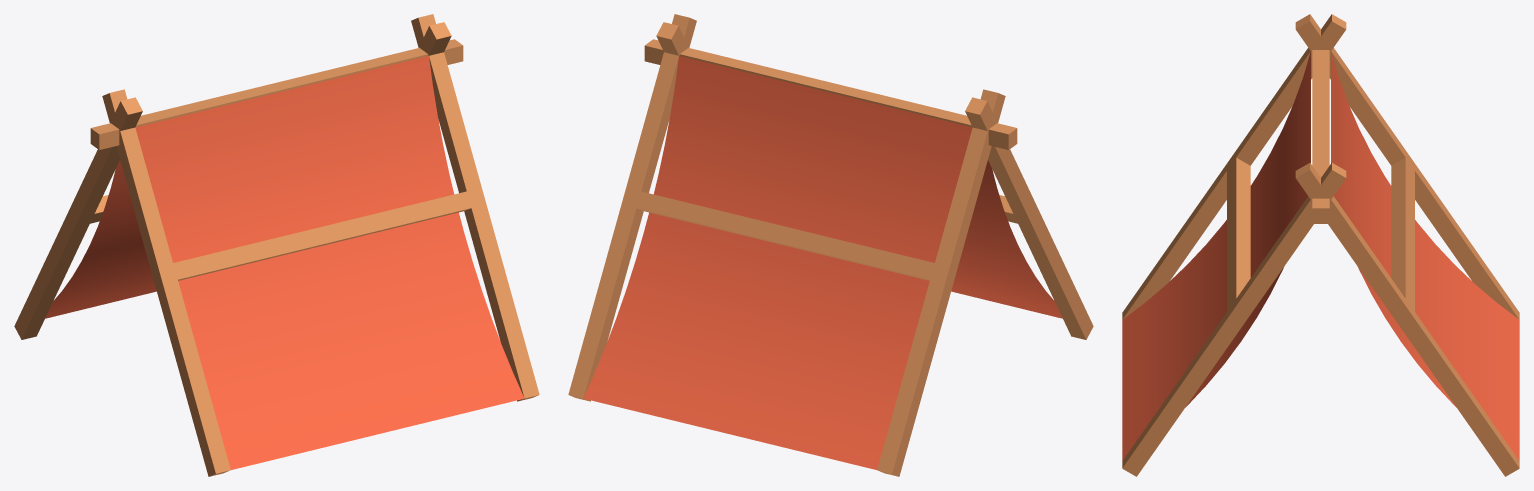
The model's file is tentClosed.dae.
3 renders of one model, left to right at view 1: azimuth 30°, elevation 25°; view 2: azimuth 150°, elevation 25°; view 3: azimuth 270°, elevation 25°, orthographic.
Visible parts, largest first — view 1: tentClosed; view 2: tentClosed; view 3: tentClosed.
Part boxes in pixels (box(x1,y1,x2,y2)): tentClosed: box(14, 14, 539, 476); tentClosed: box(568, 14, 1093, 476); tentClosed: box(1122, 14, 1519, 476).
Bounding box in the file's own units: 2.25 × 1.84 × 2.16.
